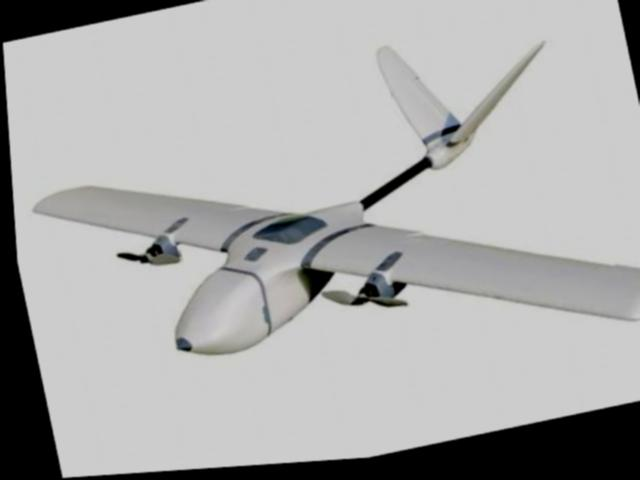uav: (4, 5, 640, 442)
